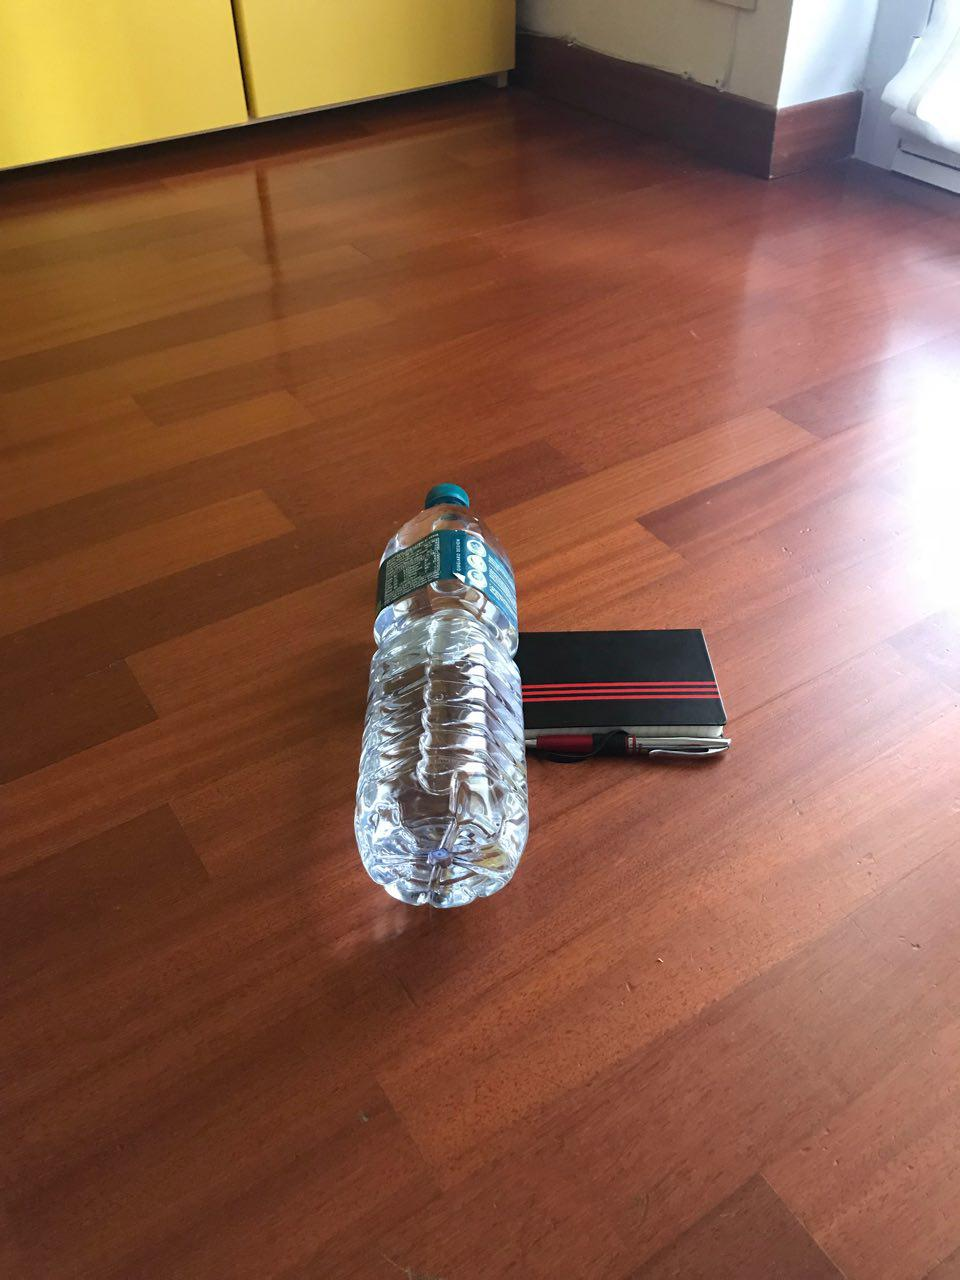san_bernardo: (352, 480, 533, 911)
